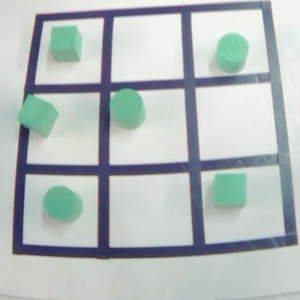cube: (12, 90, 68, 142), (39, 19, 92, 68), (206, 166, 260, 214)
cylinder: (207, 26, 257, 77), (101, 85, 155, 131), (35, 183, 88, 226)
empty: (103, 167, 203, 256), (188, 78, 284, 166), (105, 10, 190, 88)
